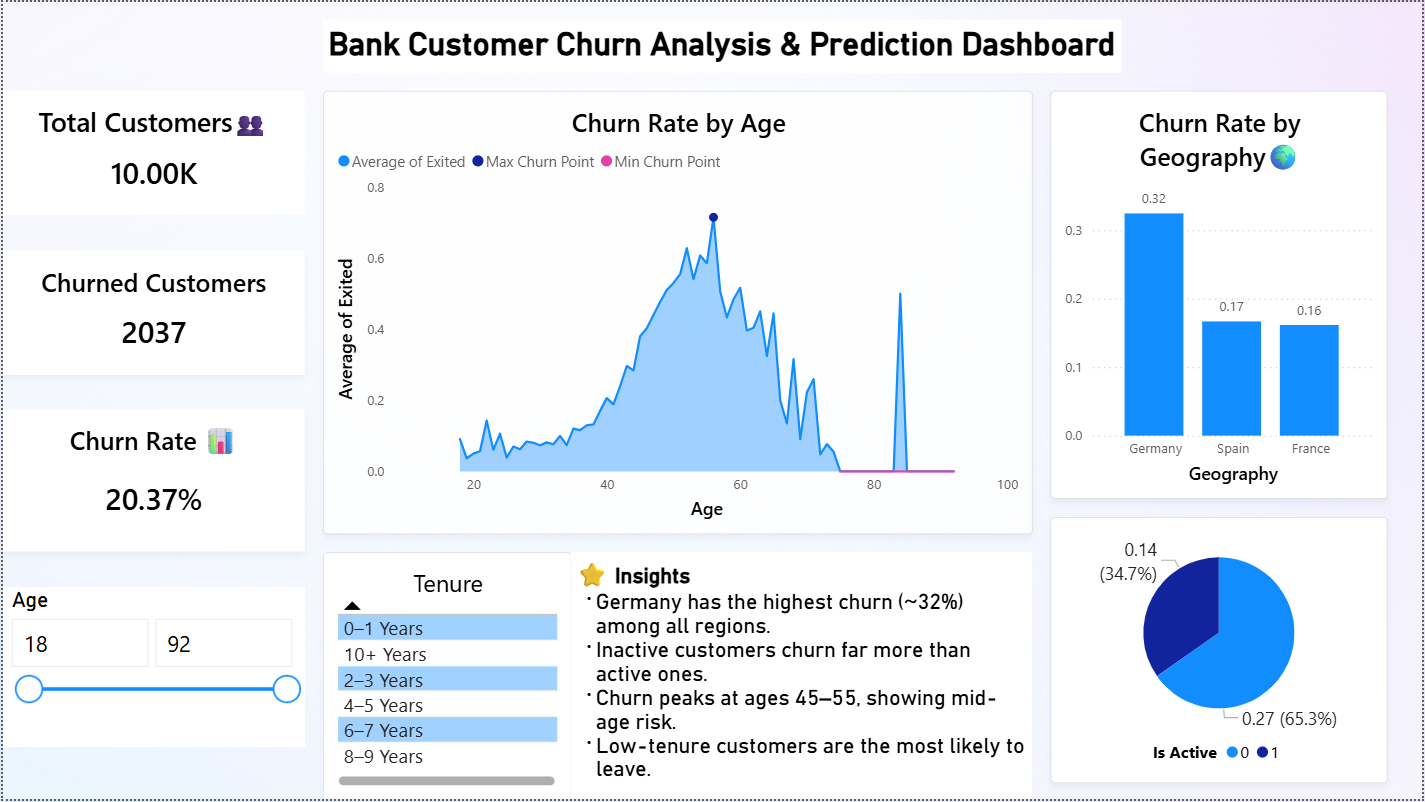

Layout of this report page (visuals, bound fields, positions):
{"tool":"powerbi","page":{"name":"Page 1","canvas":[1280,720],"ordinal":0},"visuals":[{"type":"card","title":"Total Customers👥","fields":{"Values":["CountNonNull(churn_predictions.Age)"]},"box":[0,80,272,112],"z":0},{"type":"card","title":"Churned Customers","fields":{"Values":["CountNonNull(churn_predictions.Exited)"]},"box":[0,224,272,112],"z":1000},{"type":"card","title":"Churn Rate 📊","fields":{"Values":["churn_predictions.Churn Rate"]},"box":[0,368,272,128],"z":2000},{"type":"columnChart","title":"Churn Rate by Geography🌍","fields":{"Category":["churn_predictions.Geography"],"Y":["Avg(churn_predictions.Exited)"]},"box":[944,80,304,368],"z":3000},{"type":"lineChart","title":"Churn Rate by Age","fields":{"Category":["churn_predictions.Age"],"Y":["Avg(churn_predictions.Exited)","churn_predictions.Max Churn Point","churn_predictions.Min Churn Point"]},"box":[288,80,640,400],"z":4000},{"type":"pieChart","title":" Active / Inactive","fields":{"Category":["churn_predictions.IsActiveMember"],"Y":["Avg(churn_predictions.Exited)"]},"box":[944,464,304,240],"z":5000},{"type":"slicer","fields":{"Values":["churn_predictions.Age"]},"box":[0,528,272,144],"z":6000},{"type":"tableEx","title":"Tenure","fields":{"Values":["churn_predictions.Tenure Band"]},"box":[288,496,224,224],"z":7000},{"type":"textbox","box":[512,496,416,224],"z":8000},{"type":"textbox","box":[288,16,720,48],"z":8001}]}

Visuals, with their boxes in screenshot pixels (x1, y1, x2, y2), scaled from the page's 1280x720 canvas onto the 1425x802 screenshot:
"Total Customers👥" card: [left=0, top=89, right=303, bottom=214]
"Churned Customers" card: [left=0, top=250, right=303, bottom=374]
"Churn Rate 📊" card: [left=0, top=410, right=303, bottom=552]
"Churn Rate by Geography🌍" columnChart: [left=1051, top=89, right=1389, bottom=499]
"Churn Rate by Age" lineChart: [left=321, top=89, right=1033, bottom=535]
" Active / Inactive" pieChart: [left=1051, top=517, right=1389, bottom=784]
slicer - churn_predictions.Age: [left=0, top=588, right=303, bottom=749]
"Tenure" tableEx: [left=321, top=552, right=570, bottom=801]
textbox: [left=570, top=552, right=1033, bottom=801]
textbox: [left=321, top=18, right=1122, bottom=71]
